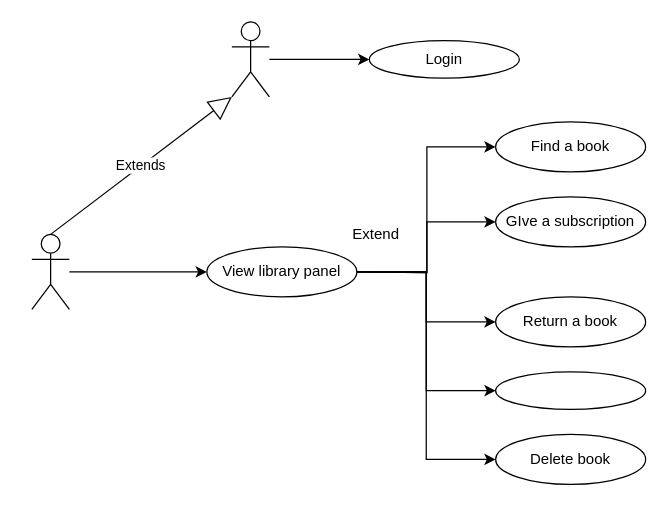
This 668x506 diagram has some shape labels left out. Each missing label, with the box of its shape:
Add book: (494, 371, 646, 409)
Guest: (231, 21, 269, 97)
Librarian: (31, 233, 69, 309)
